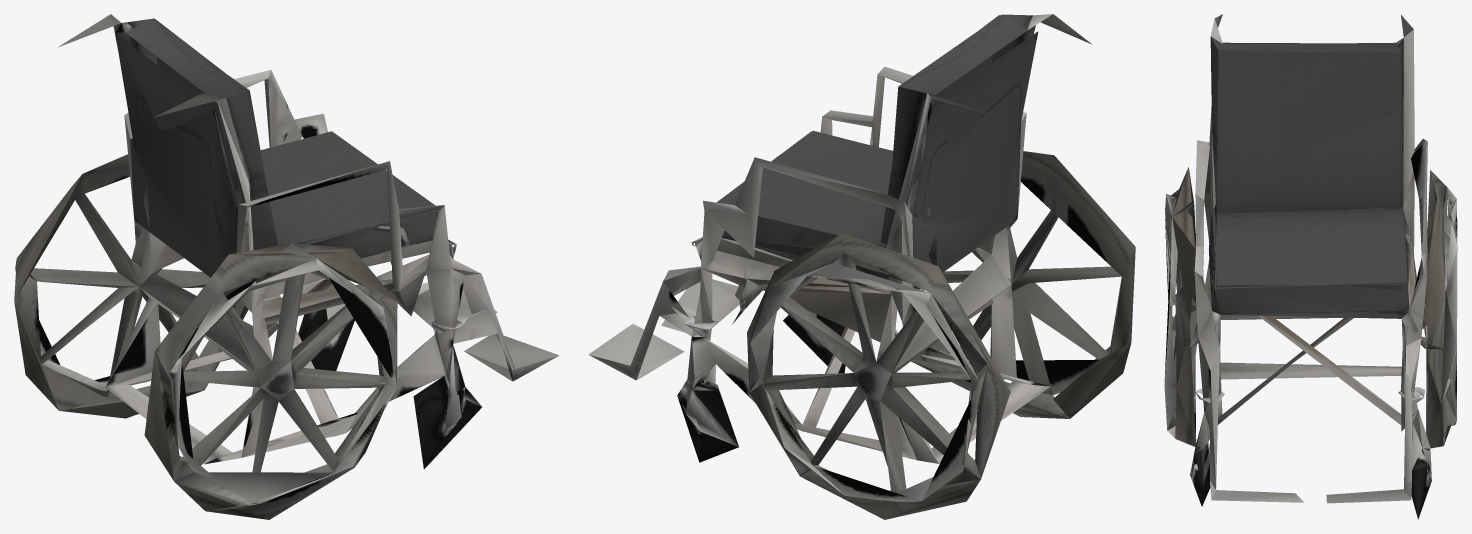
3 renders of one model, left to right at view 1: azimuth 30°, elevation 25°; view 2: azimuth 150°, elevation 25°; view 3: azimuth 270°, elevation 25°, orthographic. The views are drawn at different scales.
Parts seen in each view (by area): view 1: repaired; view 2: repaired; view 3: repaired.
Boxes of the visible parts, left/top/right/bottom form: repaired: left=14, top=14, right=559, bottom=519; repaired: left=588, top=14, right=1135, bottom=519; repaired: left=1164, top=14, right=1457, bottom=519.
Bounding box in the file's own units: 0.9902 × 0.9373 × 0.6324.
